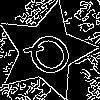Q: (21, 26, 84, 89)
